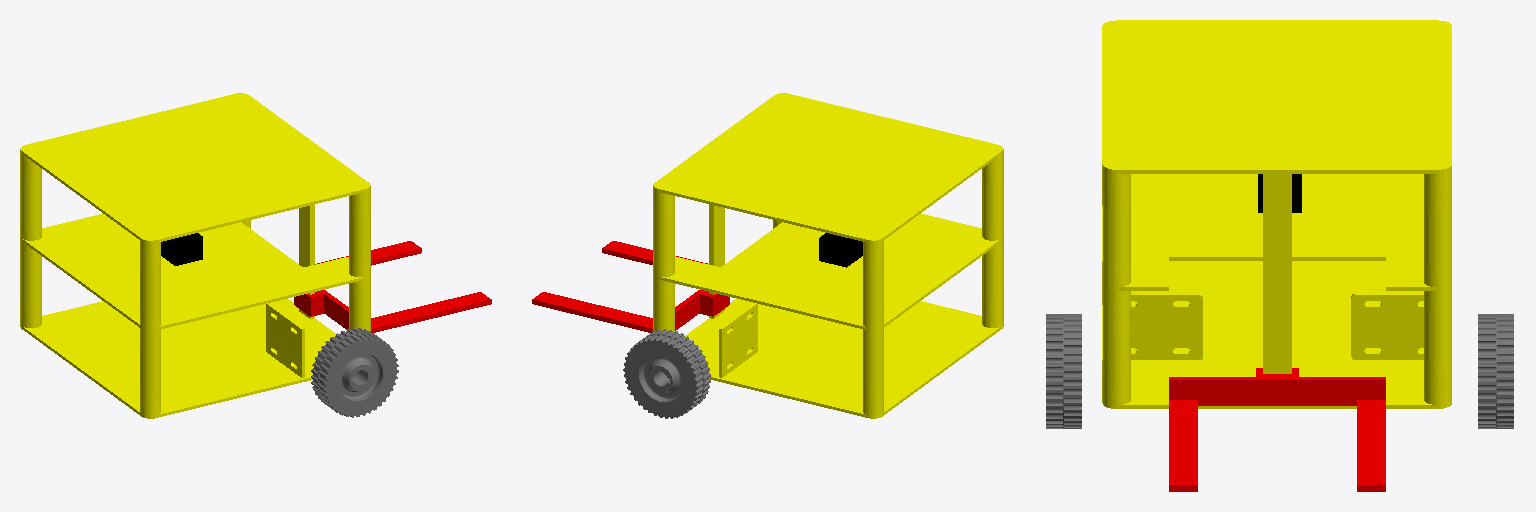
URDF robot description (forklift):
<?xml version="1.0" ?>
<!-- =================================================================================== -->
<!-- |    This document was autogenerated by xacro from src/forklift_description/urdf/robot.xacro | -->
<!-- |    EDITING THIS FILE BY HAND IS NOT RECOMMENDED                                 | -->
<!-- =================================================================================== -->
<robot name="forklift">
  <material name="silver">
    <color rgba="0.7 0.7 0.7 1.0"/>
  </material>
  <material name="green">
    <color rgba="0.0 1.0 0.0 1.0"/>
  </material>
  <material name="black">
    <color rgba="0.0 0.0 0.0 1.0"/>
  </material>
  <material name="red">
    <color rgba="1.0 0.0 0.0 1.0"/>
  </material>
  <material name="blue">
    <color rgba="0.0 0.0 1.0 1.0"/>
  </material>
  <material name="white">
    <color rgba="1.0 1.0 1.0 1.0"/>
  </material>
  <material name="yellow">
    <color rgba="1.0 1.0 0.0 1.0"/>
  </material>
  <material name="orange">
    <color rgba="1.0 0.5 0.0 1.0"/>
  </material>
  <material name="gold">
    <color rgba="1.0 0.84 0.0 1.0"/>
  </material>
  <material name="gray">
    <color rgba="0.5 0.5 0.5 1.0"/>
  </material>
  <material name="turquoise">
    <color rgba="0.25098039215686274 0.8784313725490196 0.8156862745098039 1.0"/>
  </material>
  <material name="purple">
    <color rgba="0.5019607843137255 0.0 0.5019607843137255 1.0"/>
  </material>
  <material name="aluminium">
    <color rgba="0.5 0.5 0.5 1"/>
  </material>
  <material name="plastic">
    <color rgba="0.1 0.1 0.1 1"/>
  </material>
  <!--................................ INERTIA MATRICES .............................. -->
  <!-- Sensor Systems -->
  <gazebo>
    <plugin filename="libignition-gazebo-sensors-system.so" name="ignition::gazebo::systems::Sensors">
      <render_engine>ogre2</render_engine>
    </plugin>
    <plugin filename="libignition-gazebo-imu-system.so" name="ignition::gazebo::systems::Imu">
        </plugin>
    <plugin filename="libignition-gazebo-scene-broadcaster-system.so" name="ignition::gazebo::systems::SceneBroadcaster">
        </plugin>
    <plugin filename="libignition-gazebo-joint-state-publisher-system.so" name="ignition::gazebo::systems::JointStatePublisher">
      <joint_name>left_wheel_joint</joint_name>
      <joint_name>right_wheel_joint</joint_name>
      <joint_name>lift_joint</joint_name>
      <topic_name>/joint_states</topic_name>
      <!-- Explicit topic name -->
      <update_rate>50</update_rate>
      <!-- Match your control rate -->
    </plugin>
    <!-- Loads the ros2_control hardware defined in ros2_control.xacro.
             This was missing before; without it, the controller_manager
             never spawns inside Ignition. Point <parameters> at your
             actual controllers.yaml. -->
    <plugin filename="libign_ros2_control-system.so" name="ign_ros2_control::IgnitionROS2ControlPlugin">
      <parameters>/home/yunboyloy/miniforklift_ws/install/forklift_description/share/forklift_description/config/forklift_controllers.yaml</parameters>
    </plugin>
  </gazebo>
  <!-- Differential Drive Controller -->
  <gazebo>
    <plugin filename="libignition-gazebo-diff-drive-system.so" name="ignition::gazebo::systems::DiffDrive">
      <!-- Wheel Configuration -->
      <left_joint>left_wheel_joint</left_joint>
      <right_joint>right_wheel_joint</right_joint>
      <wheel_separation>0.3</wheel_separation>
      <wheel_radius>0.04</wheel_radius>
      <update_rate>50</update_rate>
      <!-- Performance Limits -->
      <max_wheel_acceleration>1.0</max_wheel_acceleration>
      <max_wheel_torque>2000</max_wheel_torque>
      <!-- Odometry settings -->
      <odom_publish_frequency>50</odom_publish_frequency>
      <publish_odom>true</publish_odom>
      <publish_odom_tf>false</publish_odom_tf>
      <publish_wheel_tf>true</publish_wheel_tf>
      <!-- Topic Configuration -->
      <topic>/cmd_vel</topic>
      <odom_frame_id>forklift/odom</odom_frame_id>
      <robot_base_frame_id>forklift/base_footprint</robot_base_frame_id>
      <frame_id>odom</frame_id>
      <child_frame_id>base_footprint</child_frame_id>
    </plugin>
  </gazebo>
  <!-- ............................. ground truth .................................... -->
  <gazebo>
    <!-- NOTE: original filename was missing the .so extension, which
               would fail to load. Fixed here. -->
    <plugin filename="libignition-gazebo-odometry-publisher-system.so" name="ignition::gazebo::systems::OdometryPublisher">
      <odom_frame>odom</odom_frame>
      <robot_base_frame>base_footprint</robot_base_frame>
      <odom_topic>odom</odom_topic>
      <tf_topic>/tf</tf_topic>
      <dimensions>2</dimensions>
      <odom_publish_frequency>50</odom_publish_frequency>
    </plugin>
  </gazebo>
  <!-- IMU Sensor -->
  <gazebo reference="imu_link">
    <sensor name="imu_sensor" type="imu">
      <always_on>true</always_on>
      <update_rate>100</update_rate>
      <visualize>true</visualize>
      <topic>/imu</topic>
      <ignition_frame_id>imu_link</ignition_frame_id>
      <imu>
        <angular_velocity>
          <x>
            <noise type="gaussian">
              <mean>0.0</mean>
              <stddev>2e-4</stddev>
              <bias_mean>0.0000075</bias_mean>
              <bias_stddev>0.0000008</bias_stddev>
            </noise>
          </x>
          <y>
            <noise type="gaussian">
              <mean>0.0</mean>
              <stddev>2e-4</stddev>
              <bias_mean>0.0000075</bias_mean>
              <bias_stddev>0.0000008</bias_stddev>
            </noise>
          </y>
          <z>
            <noise type="gaussian">
              <mean>0.0</mean>
              <stddev>2e-4</stddev>
              <bias_mean>0.0000075</bias_mean>
              <bias_stddev>0.0000008</bias_stddev>
            </noise>
          </z>
        </angular_velocity>
        <linear_acceleration>
          <x>
            <noise type="gaussian">
              <mean>0.0</mean>
              <stddev>1.7e-2</stddev>
              <bias_mean>0.1</bias_mean>
              <bias_stddev>0.001</bias_stddev>
            </noise>
          </x>
          <y>
            <noise type="gaussian">
              <mean>0.0</mean>
              <stddev>1.7e-2</stddev>
              <bias_mean>0.1</bias_mean>
              <bias_stddev>0.001</bias_stddev>
            </noise>
          </y>
          <z>
            <noise type="gaussian">
              <mean>0.0</mean>
              <stddev>1.7e-2</stddev>
              <bias_mean>0.1</bias_mean>
              <bias_stddev>0.001</bias_stddev>
            </noise>
          </z>
        </linear_acceleration>
      </imu>
    </sensor>
  </gazebo>
  <!-- LIDAR Sensor -->
  <!-- NOTE: reference must match the actual link name in robot.xacro
         (ydlidar_lidar_mount), not the generic "lidar_link" from before. -->
  <gazebo reference="ydlidar_lidar_mount">
    <sensor name="lidar" type="gpu_lidar">
      <always_on>true</always_on>
      <visualize>true</visualize>
      <update_rate>30</update_rate>
      <topic>scan</topic>
      <!-- NOTE: was hardcoded to the literal string "lidar_frame_id" before.
             Now correctly references the const.xacro property. -->
      <ignition_frame_id>ydlidar_lidar_mount</ignition_frame_id>
      <lidar>
        <scan>
          <horizontal>
            <samples>360</samples>
            <resolution>1</resolution>
            <!-- NOTE: was referencing undefined properties lidarFR_min_angle /
                   lidarFR_max_angle before. Fixed to the properties that
                   actually exist in const.xacro (lidar_min_angle / lidar_max_angle). -->
            <min_angle>0.0</min_angle>
            <max_angle>6.283185307179586</max_angle>
          </horizontal>
        </scan>
        <range>
          <min>0.15</min>
          <max>7</max>
          <resolution>0.015000</resolution>
        </range>
        <noise>
          <type>gaussian</type>
          <mean>0.0</mean>
          <stddev>0.01</stddev>
        </noise>
      </lidar>
    </sensor>
  </gazebo>
  <!-- CAMERA -->
  <!-- NOTE: reference must match the actual link name in robot.xacro
         (front_camera_mount), not the generic "camera_link" from before. -->
  <gazebo reference="front_camera_mount">
    <sensor name="camera" type="rgbd_camera">
      <update_rate>30.0</update_rate>
      <topic>camera</topic>
      <ignition_frame_id>front_camera_mount</ignition_frame_id>
      <camera name="camera">
        <pose>0 0 0 0 -1.5707 0</pose>
        <horizontal_fov>1.08</horizontal_fov>
        <image>
          <width>640</width>
          <height>480</height>
          <format>R8G8B8</format>
        </image>
        <clip>
          <near>0.02</near>
          <far>300</far>
        </clip>
        <noise>
          <type>gaussian</type>
          <mean>0.0</mean>
          <stddev>0.01</stddev>
        </noise>
      </camera>
      <always_on>1</always_on>
      <visualize>true</visualize>
    </sensor>
  </gazebo>
  <!-- ................................ BASE LINK .................................. -->
  <link name="base_footprint"/>
  <link name="base_link">
    <visual>
      <geometry>
        <mesh filename="package://forklift_description/meshes/mini_forklift_base.stl" scale="0.001 0.001 0.001"/>
      </geometry>
      <material name="yellow"/>
      <origin rpy="0 0 3.14159" xyz="-0.15 -0.045 0.15"/>
    </visual>
    <collision>
      <geometry>
        <box size="0.245 0.2426 0.18"/>
      </geometry>
    </collision>
    <inertia ixx="0.03802281666666667" ixy="0" ixz="0" iyy="0.038510416666666665" iyz="0" izz="0.049533233333333336"/>
  </link>
  <joint name="base_joint" type="fixed">
    <parent link="base_footprint"/>
    <child link="base_link"/>
    <origin rpy="0 0 0" xyz="0.0 0.0 0.02"/>
  </joint>
  <!-- Wheel Link -->
  <link name="left_wheel_link">
    <visual>
      <origin rpy="1.5707963267948966 0 0" xyz="0 0 0"/>
      <geometry>
        <mesh filename="package://forklift_description/meshes/wheel.stl" scale="0.001 0.001 0.001"/>
      </geometry>
      <material name="Gray">
        <color rgba="0.5 0.5 0.5 1.0"/>
      </material>
    </visual>
    <collision>
      <origin rpy="1.5707963267948966 0 0" xyz="0 0 0"/>
      <geometry>
        <cylinder length="0.25" radius="0.04"/>
      </geometry>
    </collision>
    <inertial>
      <origin rpy="1.5707963267948966 0 0" xyz="0 0 0"/>
      <mass value="0.3"/>
      <inertia ixx="0.0016825" ixy="0.0" ixz="0.0" iyy="0.00024" iyz="0.0" izz="0.0016825"/>
    </inertial>
  </link>
  <!-- Wheel Joint -->
  <joint name="left_wheel_joint" type="continuous">
    <parent link="base_link"/>
    <child link="left_wheel_link"/>
    <origin rpy="0 0 0" xyz="0.1 0.15 0.0"/>
    <axis xyz="0 1 0"/>
    <dynamics damping="0.2"/>
  </joint>
  <!-- Gazebo Simulation Properties -->
  <gazebo reference="left_wheel_link">
    <material>Gazebo/Black</material>
    <mu>5.0</mu>
  </gazebo>
  <!-- Wheel Link -->
  <link name="right_wheel_link">
    <visual>
      <origin rpy="1.5707963267948966 0 0" xyz="0 0 0"/>
      <geometry>
        <mesh filename="package://forklift_description/meshes/wheel.stl" scale="0.001 0.001 0.001"/>
      </geometry>
      <material name="Gray">
        <color rgba="0.5 0.5 0.5 1.0"/>
      </material>
    </visual>
    <collision>
      <origin rpy="1.5707963267948966 0 0" xyz="0 0 0"/>
      <geometry>
        <cylinder length="0.25" radius="0.04"/>
      </geometry>
    </collision>
    <inertial>
      <origin rpy="1.5707963267948966 0 0" xyz="0 0 0"/>
      <mass value="0.3"/>
      <inertia ixx="0.0016825" ixy="0.0" ixz="0.0" iyy="0.00024" iyz="0.0" izz="0.0016825"/>
    </inertial>
  </link>
  <!-- Wheel Joint -->
  <joint name="right_wheel_joint" type="continuous">
    <parent link="base_link"/>
    <child link="right_wheel_link"/>
    <origin rpy="0 0 0" xyz="0.1 -0.15 0.0"/>
    <axis xyz="0 1 0"/>
    <dynamics damping="0.2"/>
  </joint>
  <!-- Gazebo Simulation Properties -->
  <gazebo reference="right_wheel_link">
    <material>Gazebo/Black</material>
    <mu>5.0</mu>
  </gazebo>
  <link name="lift_link">
    <visual>
      <origin rpy="0 0 3.14159" xyz="-0.3 -0.045 0.15"/>
      <geometry>
        <mesh filename="package://forklift_description/meshes/fork.stl" scale="0.001 0.001 0.001"/>
      </geometry>
      <material name="red"/>
    </visual>
    <collision>
      <origin rpy="0 0 0" xyz="0.1 0 0"/>
      <geometry>
        <box size="0.15 0.2426 0.03"/>
      </geometry>
    </collision>
    <inertia ixx="0.0024897816666666667" ixy="0" ixz="0" iyy="0.0009750000000000001" iyz="0" izz="0.0033897816666666664"/>
  </link>
  <joint name="lift_joint" type="prismatic">
    <parent link="base_link"/>
    <child link="lift_link"/>
    <origin rpy="0 0 0" xyz="0.1525 0.0 0"/>
    <axis xyz="0 0 1"/>
    <limit effort="500" lower="0.0" upper="0.15" velocity="0.1"/>
    <dynamics damping="5.0" friction="1.0"/>
  </joint>
  <gazebo reference="lift_link">
    <material>Gazebo/Yellow</material>
  </gazebo>
  <transmission name="left_wheel_trans">
    <type>transmission_interface/SimpleTransmission</type>
    <joint name="left_wheel_joint">
      <hardwareInterface>hardware_interface/VelocityJointInterface</hardwareInterface>
    </joint>
    <actuator name="left_wheel_motor">
      <hardwareInterface>hardware_interface/VelocityJointInterface</hardwareInterface>
      <mechanicalReduction>1</mechanicalReduction>
    </actuator>
  </transmission>
  <transmission name="right_wheel_trans">
    <type>transmission_interface/SimpleTransmission</type>
    <joint name="right_wheel_joint">
      <hardwareInterface>hardware_interface/VelocityJointInterface</hardwareInterface>
    </joint>
    <actuator name="right_wheel_motor">
      <hardwareInterface>hardware_interface/VelocityJointInterface</hardwareInterface>
      <mechanicalReduction>1</mechanicalReduction>
    </actuator>
  </transmission>
  <transmission name="lift_trans">
    <type>transmission_interface/SimpleTransmission</type>
    <joint name="lift_joint">
      <hardwareInterface>hardware_interface/PositionJointInterface</hardwareInterface>
    </joint>
    <actuator name="lift_motor">
      <hardwareInterface>hardware_interface/PositionJointInterface</hardwareInterface>
      <mechanicalReduction>1</mechanicalReduction>
    </actuator>
  </transmission>
  <!-- Add more wheels if needed -->
  <!-- Caster Wheel -->
  <link name="front_caster">
    <visual>
      <origin rpy="0 0 0" xyz="-0.05 -0.2 0.01"/>
      <geometry>
        <mesh filename="package://forklift_description/meshes/caster_wheel.stl" scale="0.001 0.001 0.001"/>
      </geometry>
      <material name="gray"/>
    </visual>
    <collision>
      <geometry>
        <sphere radius="0.0415"/>
      </geometry>
    </collision>
    <inertia ixx="6.889000000000003e-05" ixy="0" ixz="0" iyy="6.889000000000003e-05" iyz="0" izz="6.889000000000003e-05"/>
  </link>
  <joint name="caster_joint" type="fixed">
    <parent link="base_link"/>
    <child link="front_caster"/>
    <origin rpy="0 0 0" xyz="-0.06 0.0 -0.02"/>
  </joint>
  <!-- IMU -->
  <link name="imu_link">
    <visual>
      <geometry>
        <box size="0.03 0.03 0.03"/>
      </geometry>
      <material name="Black">
        <color rgba="0 0 0.0 1.0"/>
      </material>
    </visual>
    <collision>
      <geometry>
        <box size="0.03 0.03 0.03"/>
      </geometry>
    </collision>
    <inertia ixx="1.5e-05" ixy="0" ixz="0" iyy="1.5e-05" iyz="0" izz="1.5e-05"/>
  </link>
  <joint name="imu_joint" type="fixed">
    <parent link="base_link"/>
    <child link="imu_link"/>
    <origin rpy="0 0 0" xyz="0.0 0.0 0.09"/>
  </joint>
  <!-- RPLIDAR -->
  <link name="ydlidar_lidar_mount">
    <visual>
      <origin rpy="0 0 0" xyz="0 0 -0.0"/>
      <geometry>
        <mesh filename="package://forklift_description/meshes/ydlidar_x2_assy.dae" scale="1 1 1"/>
      </geometry>
    </visual>
    <collision>
      <origin rpy="0 0 0" xyz="0 0 0"/>
      <geometry>
        <cylinder length="0.045" radius="0.045"/>
      </geometry>
    </collision>
    <inertial>
      <origin rpy="0 0 0" xyz="0.007 0 0.025"/>
      <mass value="0.15"/>
      <inertia ixx="0.000058" ixy="0" ixz="0.000005" iyy="0.000099" iyz="0" izz="0.000103"/>
    </inertial>
  </link>
  <joint name="ydlidar_mount_fixed_joint" type="fixed">
    <parent link="base_link"/>
    <child link="ydlidar_lidar_mount"/>
    <origin rpy="0 0 0" xyz="-0.01 0.0 0.16999999999999998"/>
  </joint>
  <!-- Raspberry Pi Camera V2 -->
  <link name="camera_link">
    <visual>
      <origin rpy="0 0 0" xyz="0 0 -0.0"/>
      <geometry>
        <mesh filename="package://forklift_description/meshes/front_camera.dae" scale="1 1 1"/>
      </geometry>
    </visual>
    <collision>
      <origin rpy="0 0 0" xyz="0 0 0"/>
      <geometry>
        <box size="0.022 0.022 0.022"/>
      </geometry>
    </collision>
    <inertial>
      <origin rpy="0 0 0" xyz="0.005 0 0.013"/>
      <mass value="0.05"/>
      <inertia ixx="0.000005" ixy="0" ixz="-0.000001" iyy="0.000004" iyz="0" izz="0.000003"/>
    </inertial>
  </link>
  <joint name="camera_joint" type="fixed">
    <parent link="lift_link"/>
    <child link="camera_link"/>
    <origin rpy="0 0 0" xyz="0 0 0"/>
  </joint>
</robot>

--- What the picture shows (computed from the rendered views, not written in the file) ---
3 views of the same robot in one strip: view 1: azimuth 30°, elevation 25°; view 2: azimuth 150°, elevation 25°; view 3: azimuth 270°, elevation 25° (orthographic).
Robot: forklift — 9 links, 8 joints (2 continuous, 1 prismatic, 5 fixed); root link base_footprint; default pose: all joints at 0.
Links seen in each view (by area): view 1: base_link, right_wheel_link, lift_link, imu_link; view 2: base_link, left_wheel_link, lift_link, imu_link; view 3: base_link, lift_link, left_wheel_link, right_wheel_link, imu_link.
Boxes of the visible links, left/top/right/bottom form: base_link: left=20, top=93, right=370, bottom=418; right_wheel_link: left=311, top=328, right=398, bottom=417; lift_link: left=294, top=241, right=491, bottom=332; imu_link: left=161, top=233, right=202, bottom=265; base_link: left=653, top=93, right=1003, bottom=418; left_wheel_link: left=623, top=329, right=710, bottom=418; lift_link: left=532, top=241, right=729, bottom=332; imu_link: left=819, top=233, right=862, bottom=267; base_link: left=1102, top=20, right=1451, bottom=408; lift_link: left=1169, top=368, right=1385, bottom=491; left_wheel_link: left=1478, top=314, right=1513, bottom=428; right_wheel_link: left=1046, top=314, right=1081, bottom=428; imu_link: left=1258, top=174, right=1301, bottom=212.
Size in the robot's own frame: 0.3975 by 0.325 by 0.2191 metres.
5 mesh visuals loaded from 6 distinct referenced files (4 binary STL); not drawn: 2 (file found but could not be loaded).
